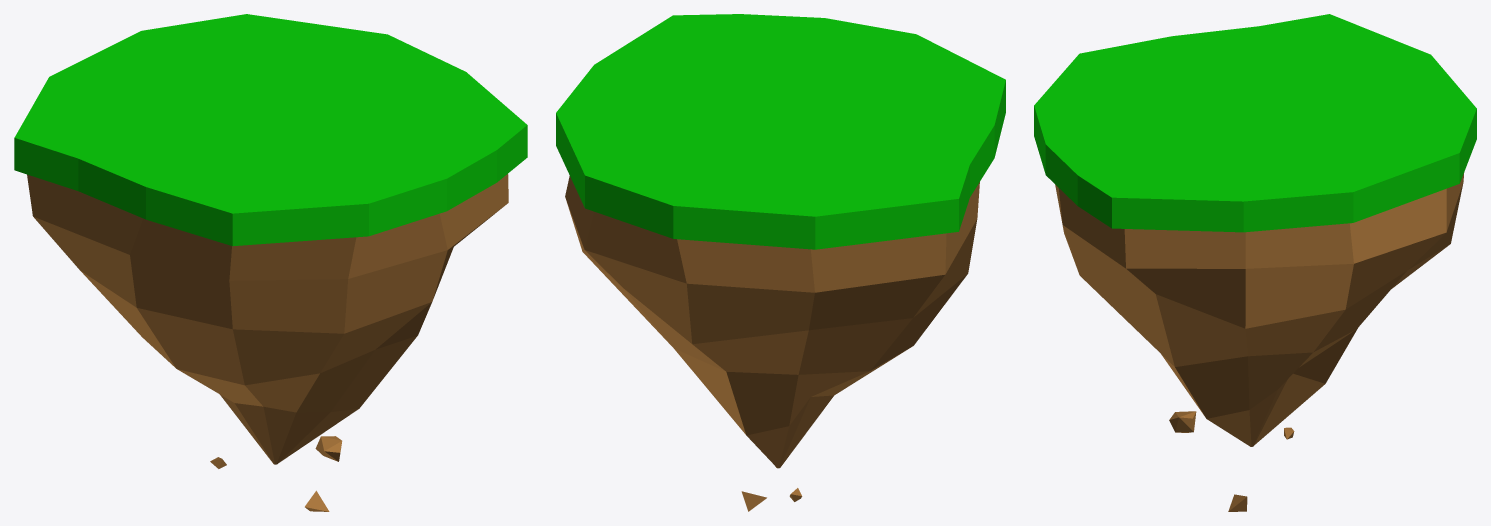
The model's file is island.fbx.
The picture shows the model from 3 angles, left to right: view 1: azimuth 30°, elevation 25°; view 2: azimuth 150°, elevation 25°; view 3: azimuth 270°, elevation 25°; orthographic projection. The views are drawn at different scales.
Parts seen in each view (by area): view 1: Green_platform, Island; view 2: Green_platform, Island; view 3: Green_platform, Island.
Boxes of the visible parts, left/top/right/bottom form: Green_platform: left=14, top=14, right=527, bottom=246; Island: left=27, top=174, right=508, bottom=511; Green_platform: left=556, top=14, right=1005, bottom=249; Island: left=565, top=176, right=979, bottom=511; Green_platform: left=1034, top=14, right=1476, bottom=232; Island: left=1055, top=172, right=1464, bottom=511.
Size of the model in its own units: 113 by 112 by 107.
